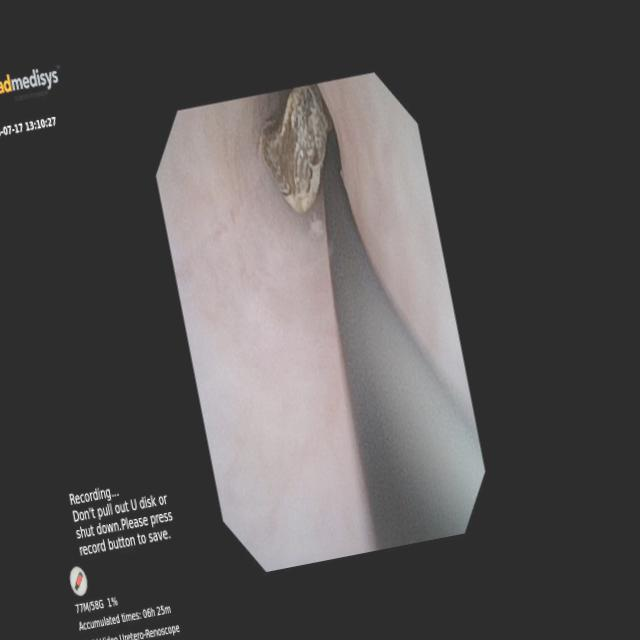stone-new: (260, 86, 330, 211)
